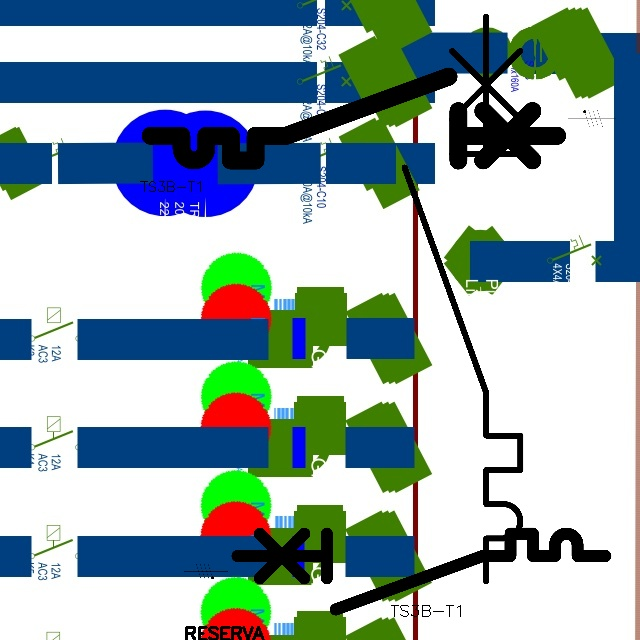interruptor_termomagnetico: (390, 2, 535, 596), (140, 66, 567, 171), (227, 524, 614, 618)
